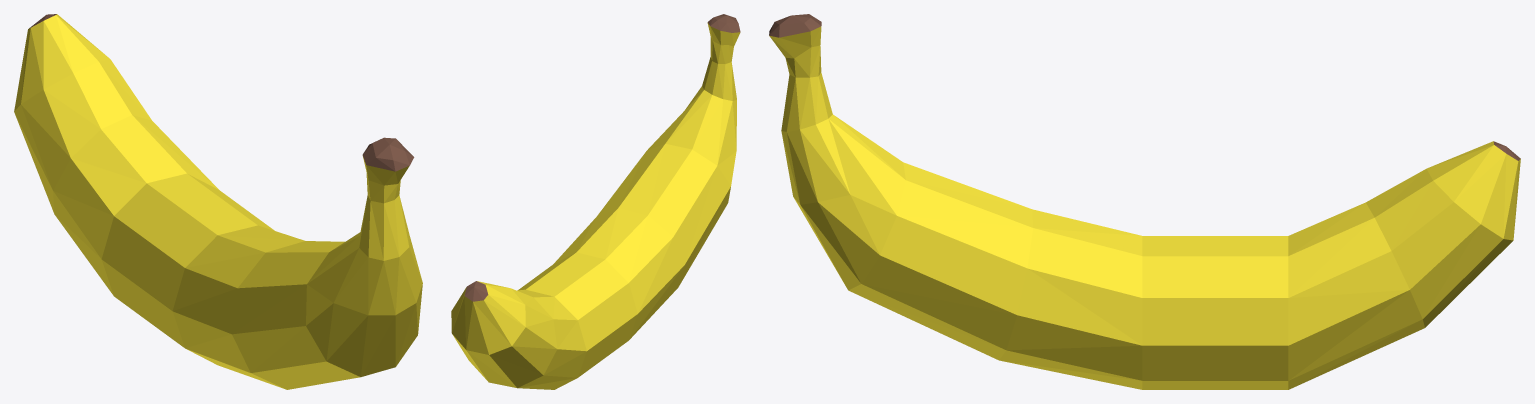
File: Banana.glb
3 views of the same model, side by side, from view 1: azimuth 30°, elevation 25°; view 2: azimuth 150°, elevation 25°; view 3: azimuth 270°, elevation 25° (orthographic). The views are drawn at different scales.
Parts seen in each view (by area): view 1: group1337751287; view 2: group1337751287; view 3: group1337751287.
Part boxes in pixels (left/top/right/bottom): group1337751287: left=14, top=14, right=422, bottom=389; group1337751287: left=451, top=14, right=740, bottom=389; group1337751287: left=769, top=14, right=1520, bottom=389.
Bounding box in the file's own units: 0.5901 × 1.45 × 2.78.
